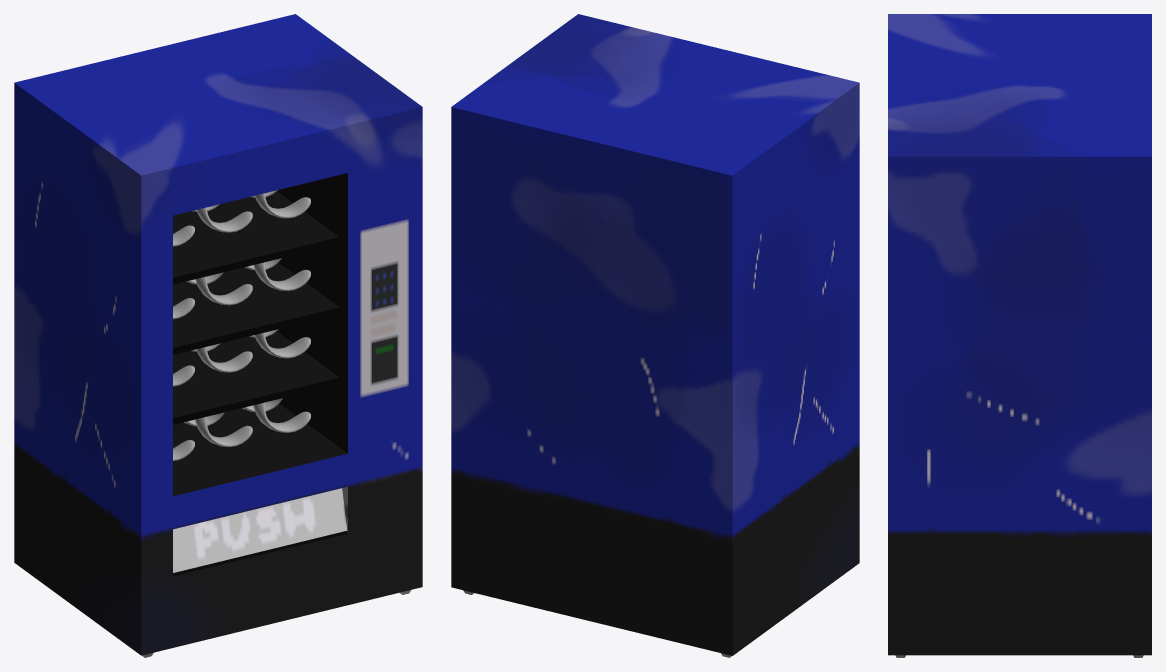
Rendered from VendingMachine 1.fbx.
The picture shows the model from 3 angles, left to right: view 1: azimuth 30°, elevation 25°; view 2: azimuth 150°, elevation 25°; view 3: azimuth 270°, elevation 25°; orthographic projection. The views are drawn at different scales.
Visible parts, largest first — view 1: pCube7; view 2: pCube7; view 3: pCube7.
Boxes of the visible parts, bbox=[...] form: pCube7: bbox=[14, 14, 422, 657]; pCube7: bbox=[451, 14, 859, 657]; pCube7: bbox=[888, 14, 1151, 657].
Bounding box in the file's own units: 5.4 × 8.93 × 4.22.
1 material, 1 textured.
